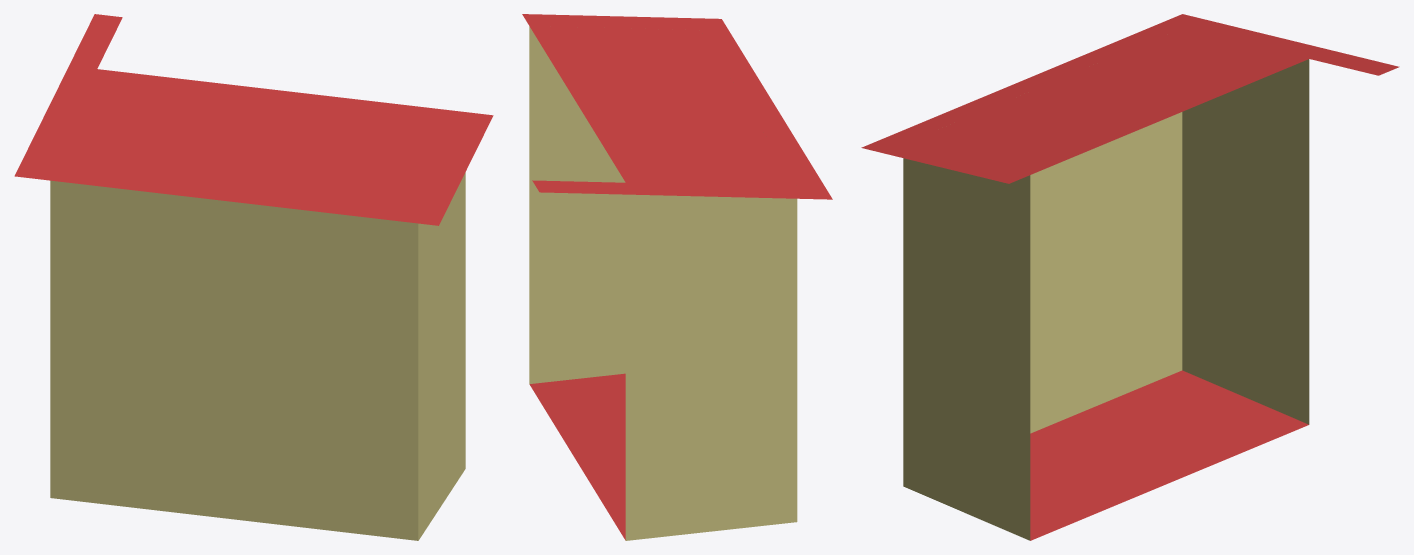
3 views of the same model, side by side, from view 1: azimuth 30°, elevation 25°; view 2: azimuth 150°, elevation 25°; view 3: azimuth 270°, elevation 25° (orthographic). The views are drawn at different scales.
Size of the model in its own units: 7.81 by 9.01 by 6.99.
